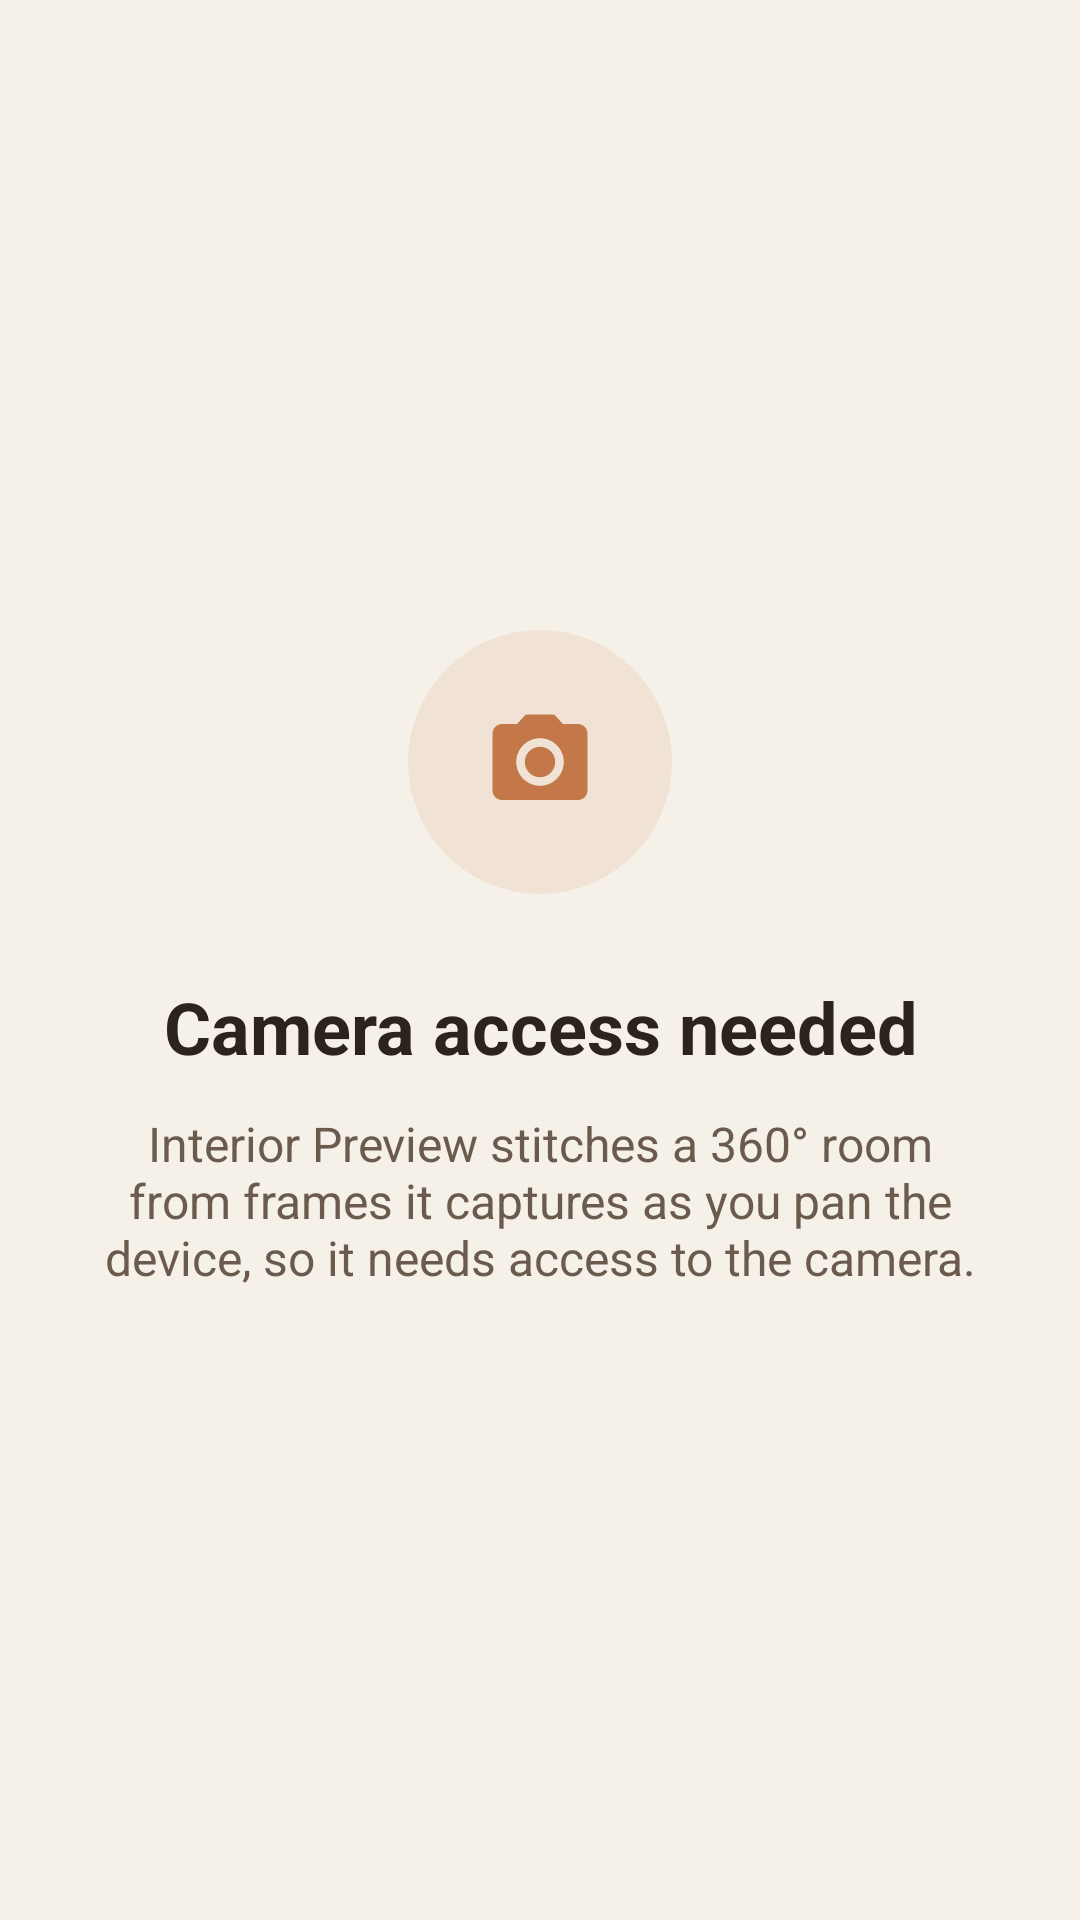

Named icons in this screenshot (1080 × 1920) and their centers, [x,y]:
camera: [540,757]
